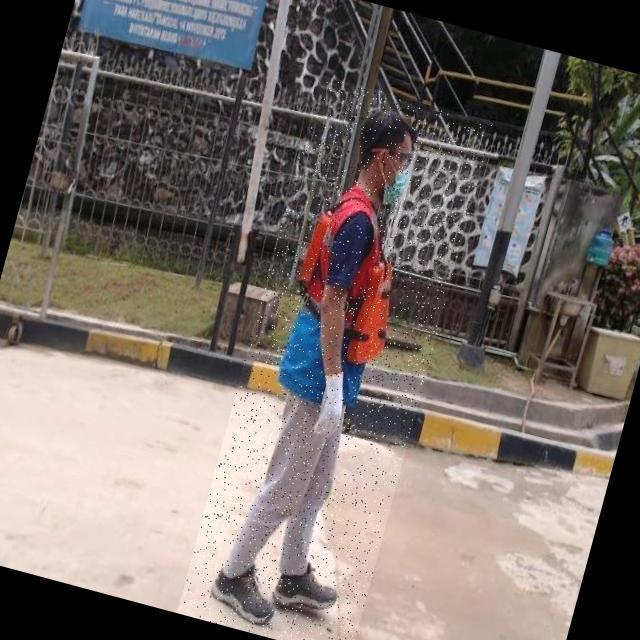Helmet: (309, 355, 358, 443)
Person: (191, 100, 423, 632)
Safety Boot: (201, 554, 289, 635), (267, 555, 348, 625)
Safety Vest: (271, 177, 424, 416)
no-helmet: (348, 109, 418, 144)
